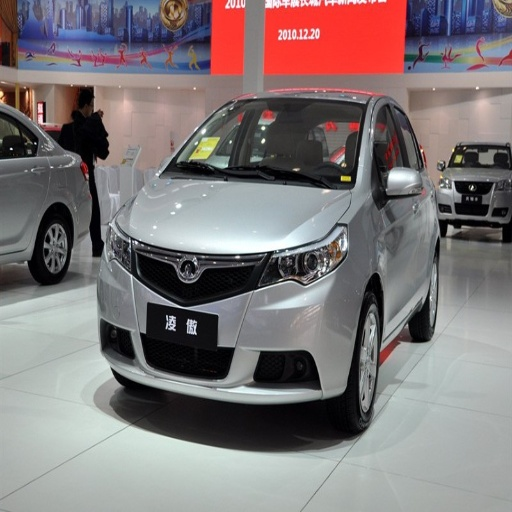front_bumper: (100, 238, 361, 403)
front_glass: (162, 102, 366, 189)
front_left_door: (368, 100, 418, 323)
